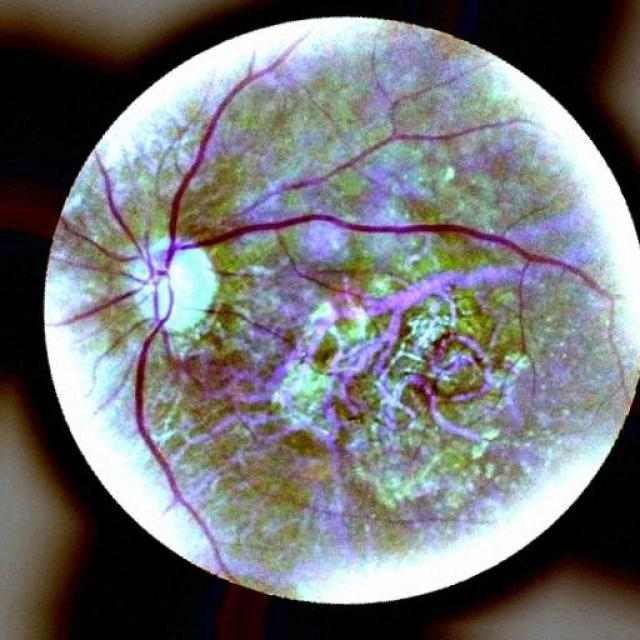Nerves: (166, 58, 543, 301), (125, 303, 225, 574)
Optic Disk: (124, 238, 212, 336)
